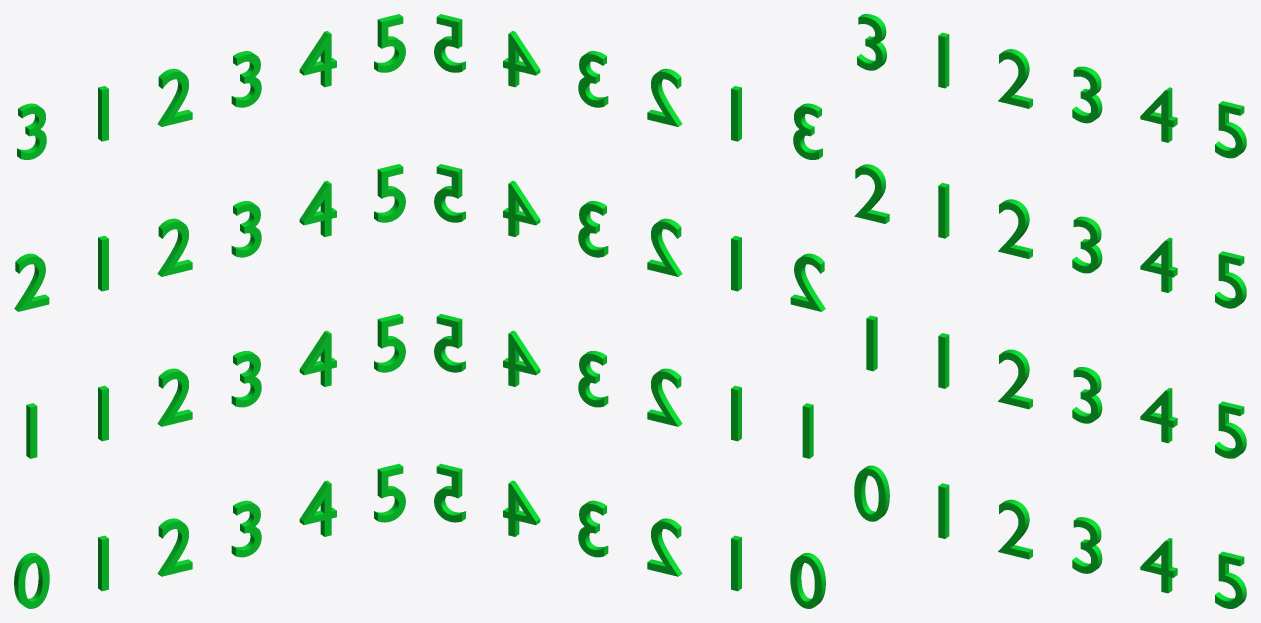
Rendered from m1_not_realize.glb.
3 renders of one model, left to right at view 1: azimuth 30°, elevation 25°; view 2: azimuth 150°, elevation 25°; view 3: azimuth 330°, elevation 25°, orthographic.
Visible parts, largest first — view 1: GN Instance (×24); view 2: GN Instance (×19); view 3: GN Instance (×24).
Part boxes in pixels (bbox=[...]): GN Instance (×24): bbox=[14, 14, 405, 608]; GN Instance (×19): bbox=[434, 17, 821, 608]; GN Instance (×24): bbox=[854, 14, 1246, 608].
Bounding box in the file's own units: 2.71 × 3.35 × 0.05.
